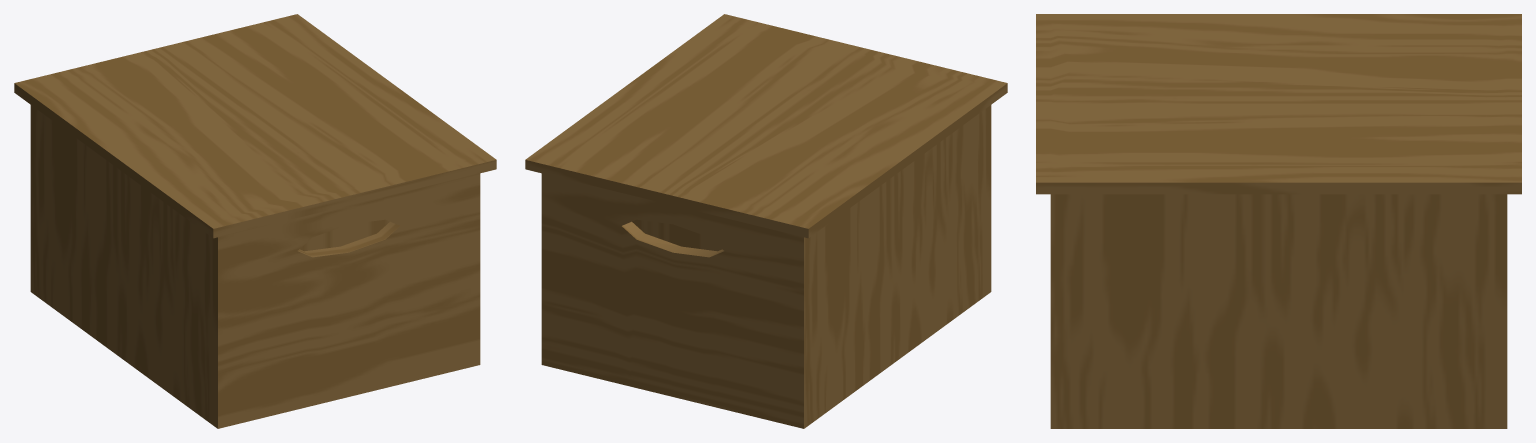
File: ClosedBox.fbx
3 renders of one model, left to right at view 1: azimuth 30°, elevation 25°; view 2: azimuth 150°, elevation 25°; view 3: azimuth 270°, elevation 25°, orthographic. The views are drawn at different scales.
Parts seen in each view (by area): view 1: ClosedBasket; view 2: ClosedBasket; view 3: ClosedBasket.
Part boxes in pixels (x1,y1,x2,y2): ClosedBasket: [14, 14, 496, 428]; ClosedBasket: [525, 14, 1007, 428]; ClosedBasket: [1036, 14, 1521, 428].
Bounding box in the file's own units: 1.08 × 0.7544 × 1.32.
1 material, 1 textured.
